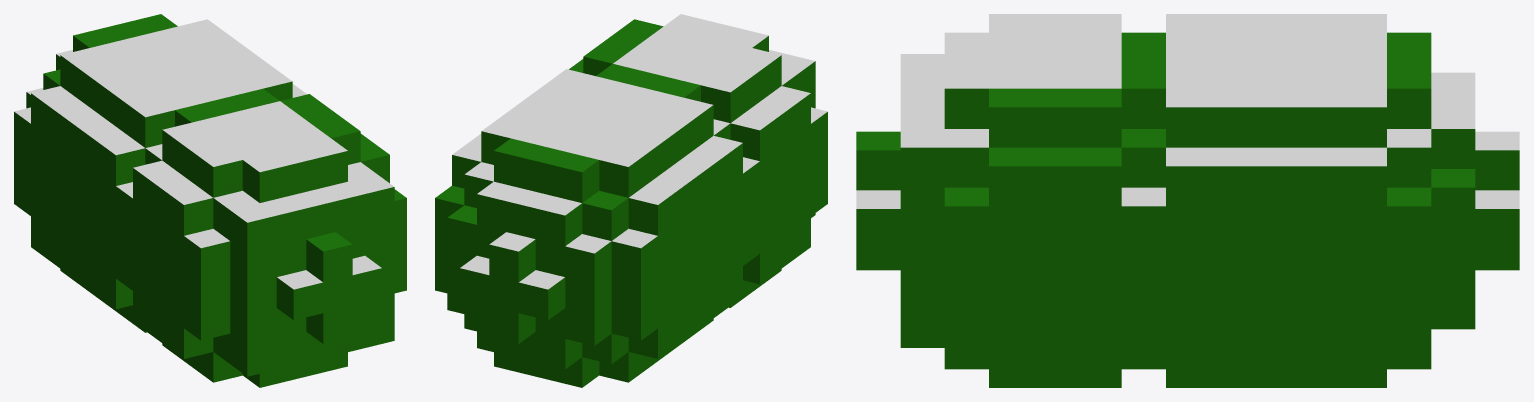
File: buisson1_snow.fbx
3 views of the same model, side by side, from view 1: azimuth 30°, elevation 25°; view 2: azimuth 150°, elevation 25°; view 3: azimuth 270°, elevation 25° (orthographic). The views are drawn at different scales.
Parts seen in each view (by area): view 1: Sphere.013; view 2: Sphere.013; view 3: Sphere.013.
Part boxes in pixels (x1,y1,x2,y2): Sphere.013: (14, 14, 406, 387); Sphere.013: (435, 14, 827, 387); Sphere.013: (856, 14, 1519, 387).
Size of the model in its own units: 183 by 183 by 392.
